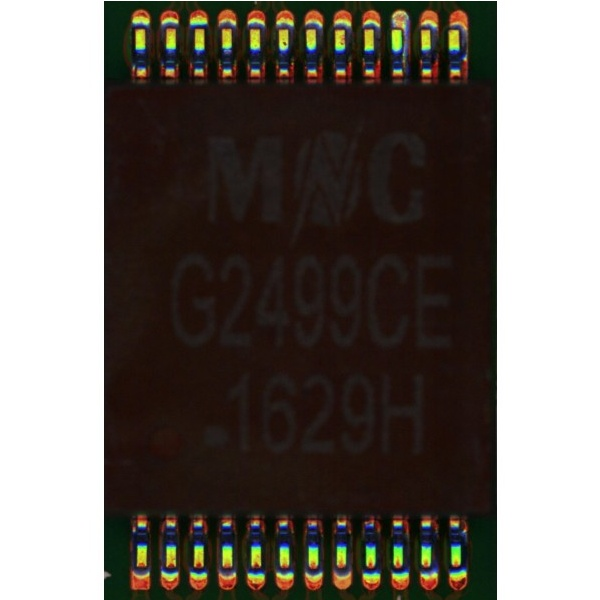Bad_podu: (393, 21, 402, 35)
Bad_qiaojiao: (401, 30, 408, 70)
